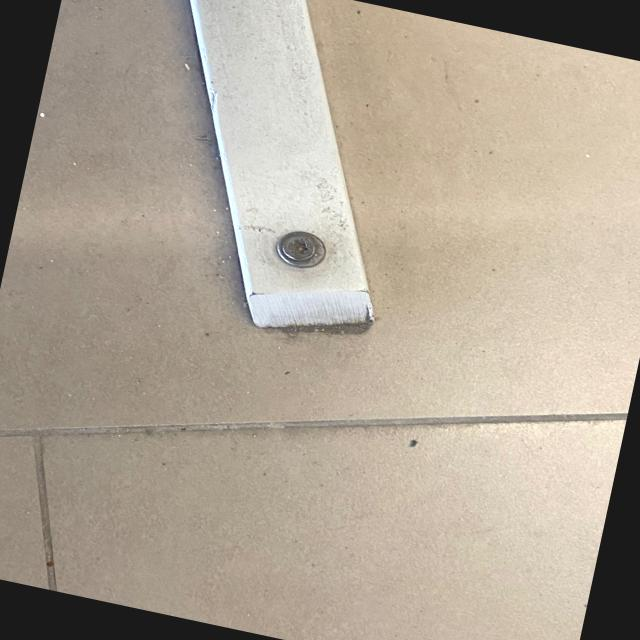Torx: (275, 229, 320, 262)
